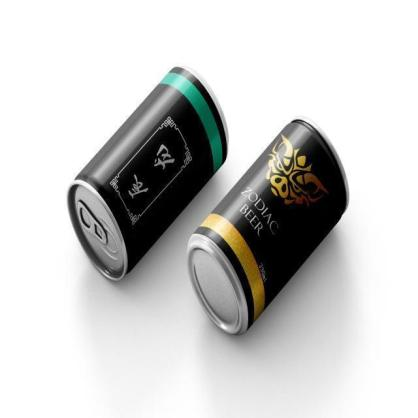can: (188, 112, 350, 338), (66, 63, 230, 280)
